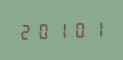one: (52, 20, 68, 39), (86, 19, 102, 38)
two: (18, 21, 34, 40)
zero: (35, 20, 51, 40), (69, 19, 85, 39)
